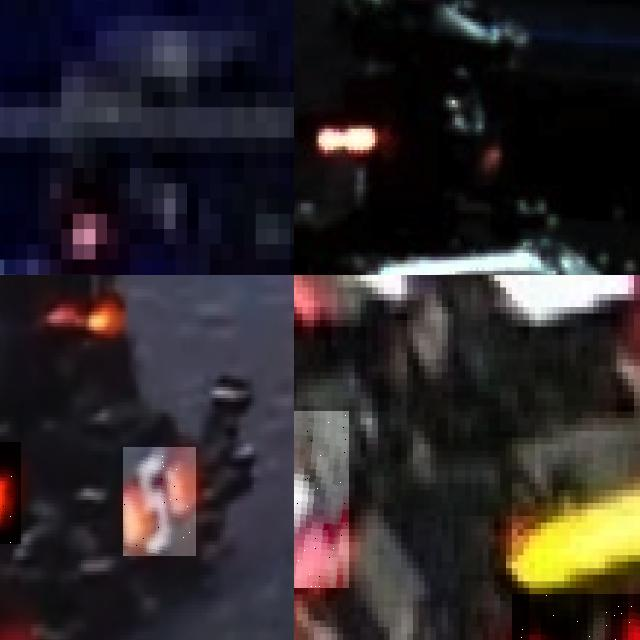R4: (294, 411, 348, 587), (511, 594, 640, 640)
R5: (123, 447, 196, 556)
